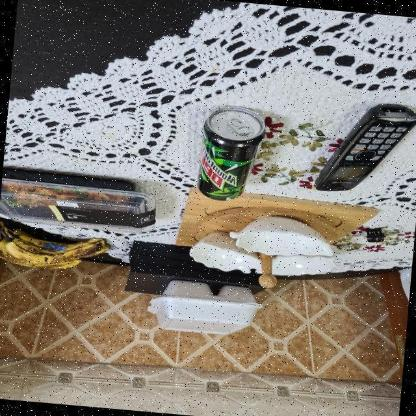Can: (196, 106, 264, 200)
